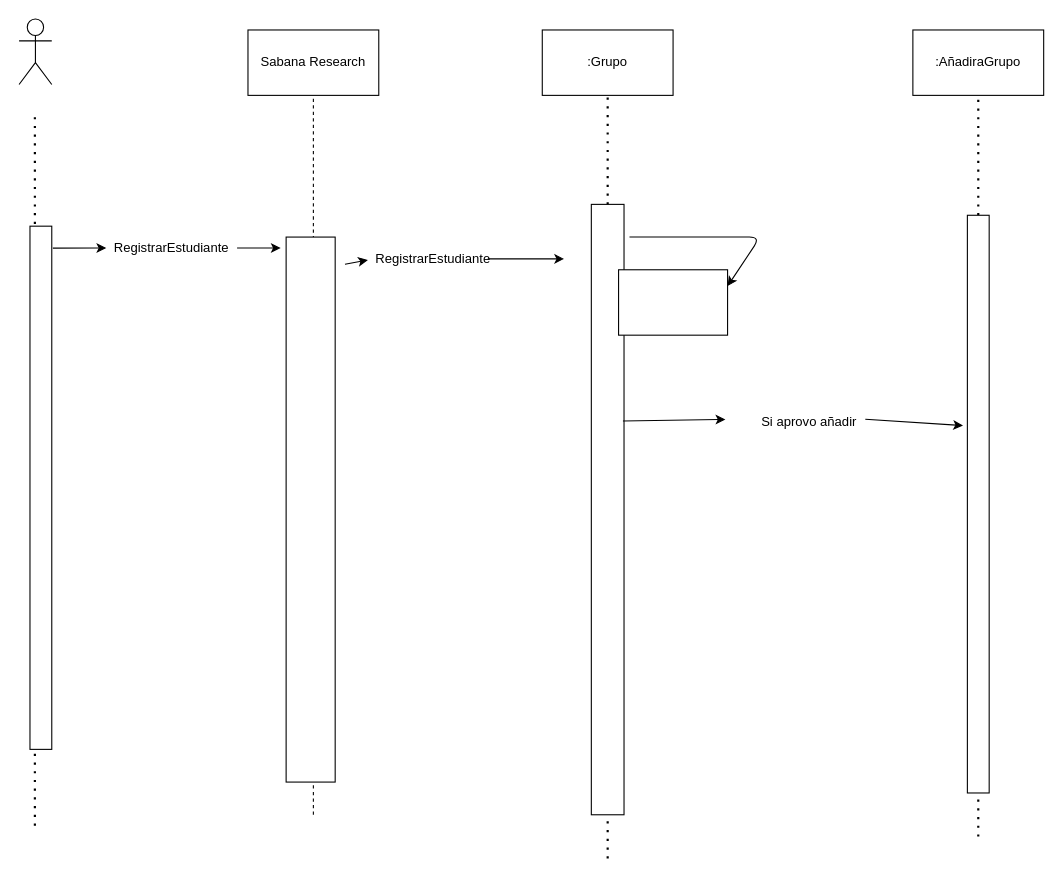
The diagram is 1063 pixels wide and 880 high, and some of its shapes have lost their labels. Each missing label, with the box of its shape:
Actor: (18, 18, 52, 84)
Aprobo todos los prerequisitos?: (617, 269, 728, 335)
